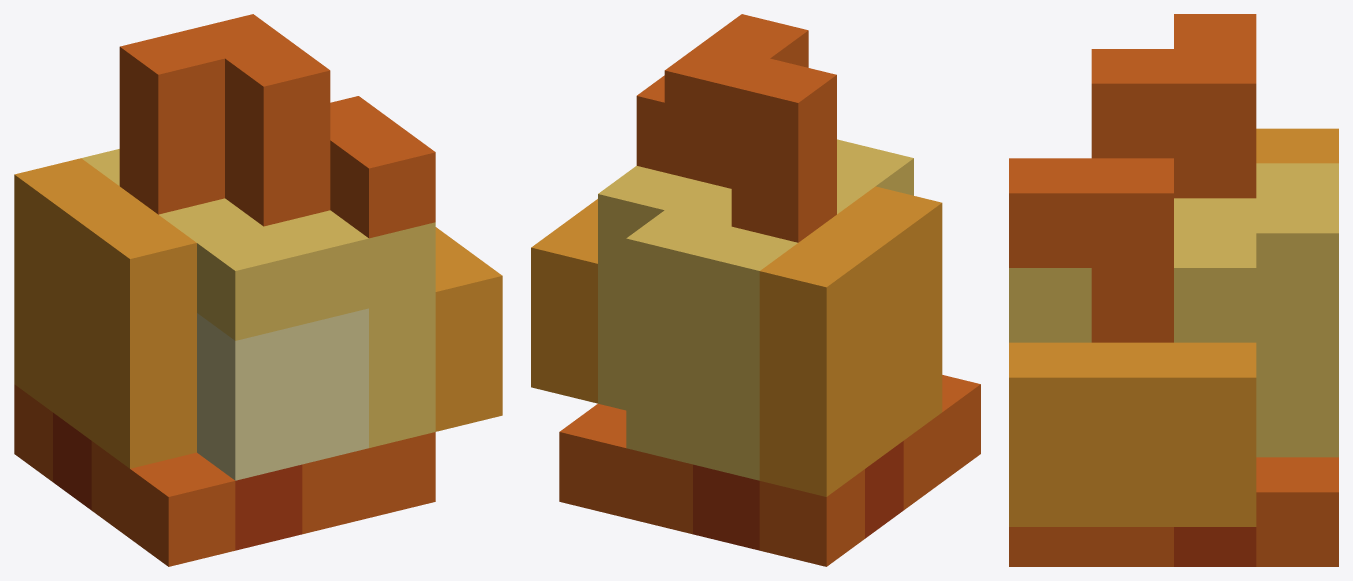
Rendered from flame_03.glb.
3 views of the same model, side by side, from view 1: azimuth 30°, elevation 25°; view 2: azimuth 150°, elevation 25°; view 3: azimuth 270°, elevation 25° (orthographic). The views are drawn at different scales.
Visible parts, largest first — view 1: flame_03; view 2: flame_03; view 3: flame_03.
Part boxes in pixels (box(x1,y1,x2,y2)): flame_03: box(14, 14, 502, 566); flame_03: box(531, 14, 980, 566); flame_03: box(1009, 14, 1338, 566).
Bounding box in the file's own units: 0.625 × 0.75 × 0.5.
